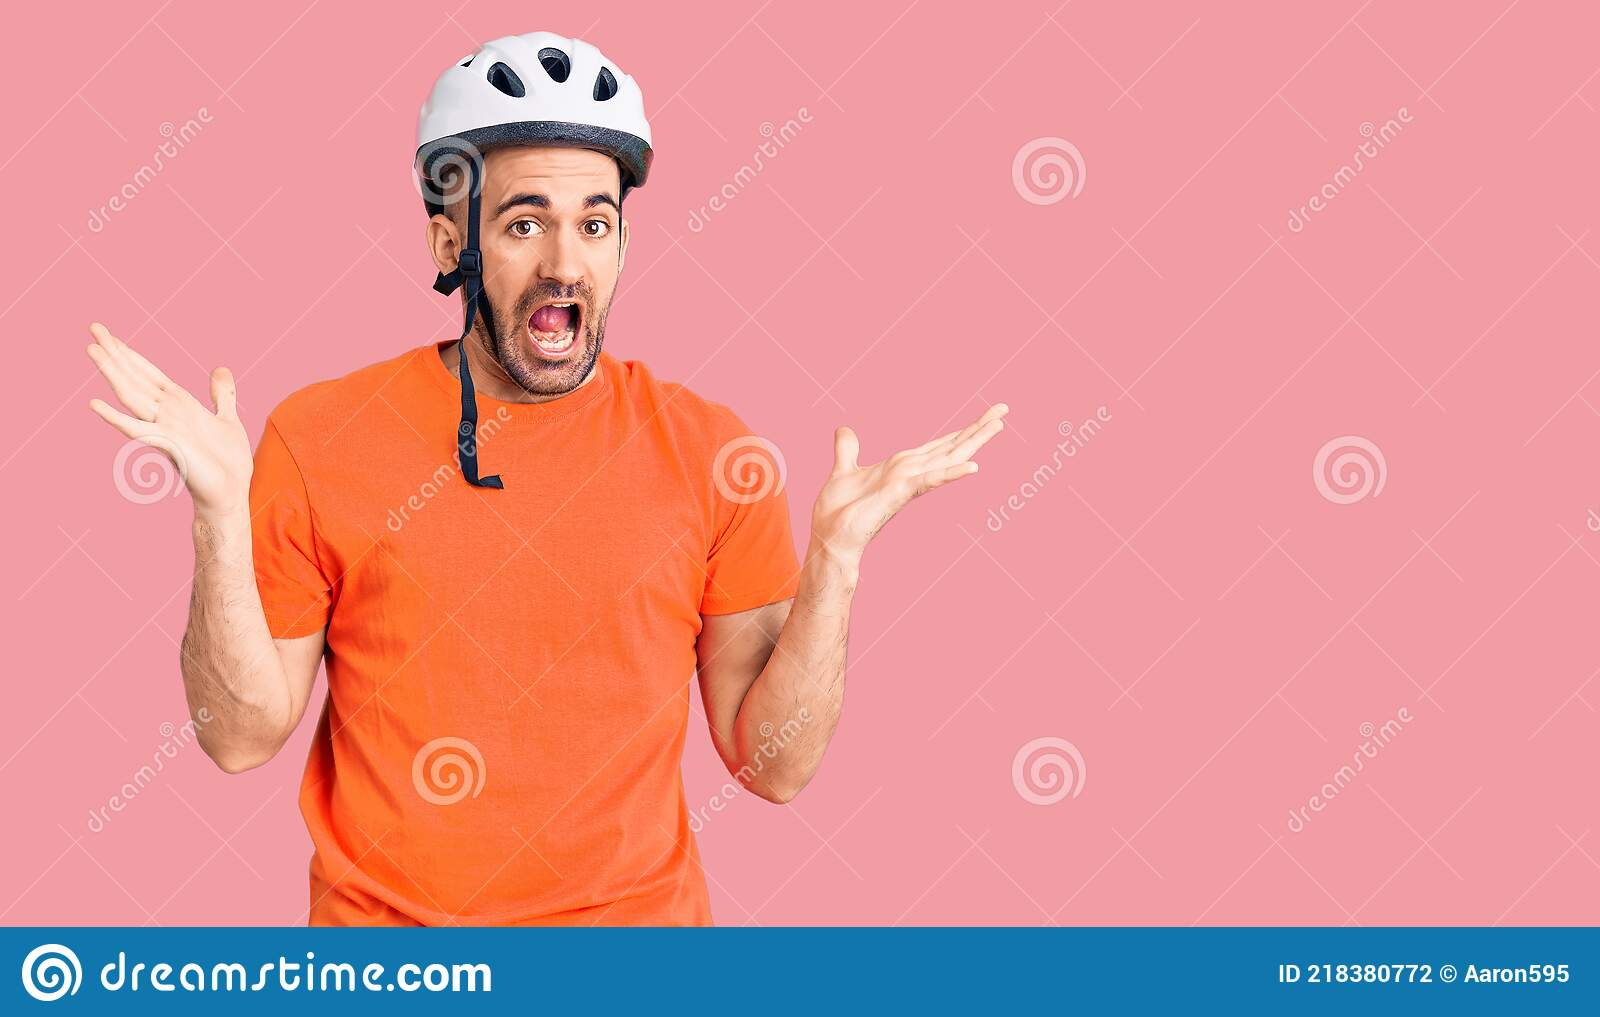helmet: (415, 30, 655, 394)
